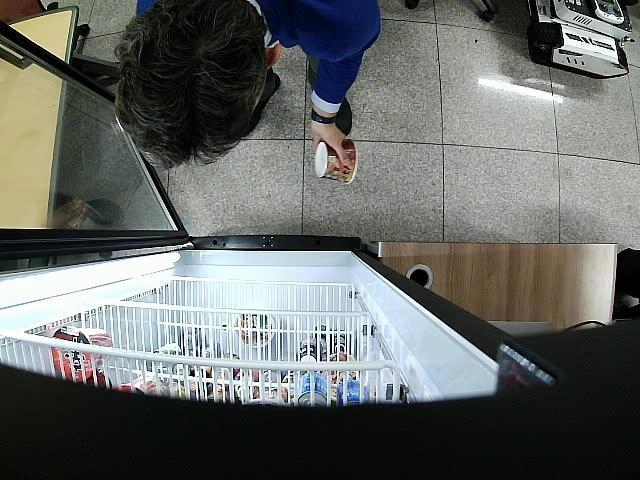05_nuguri_L: (314, 138, 358, 184)
